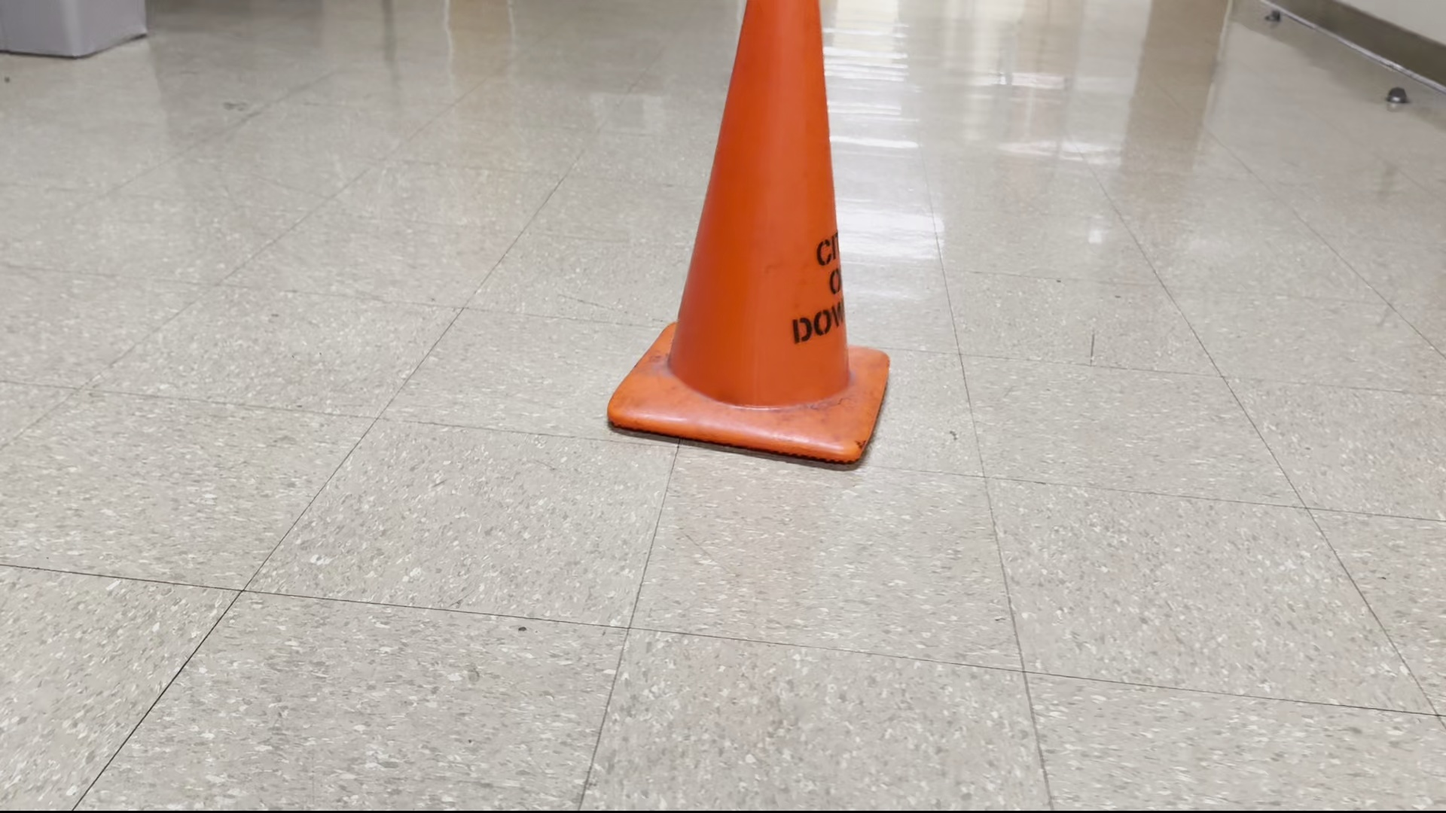traffic_cone: (606, 0, 891, 465)
